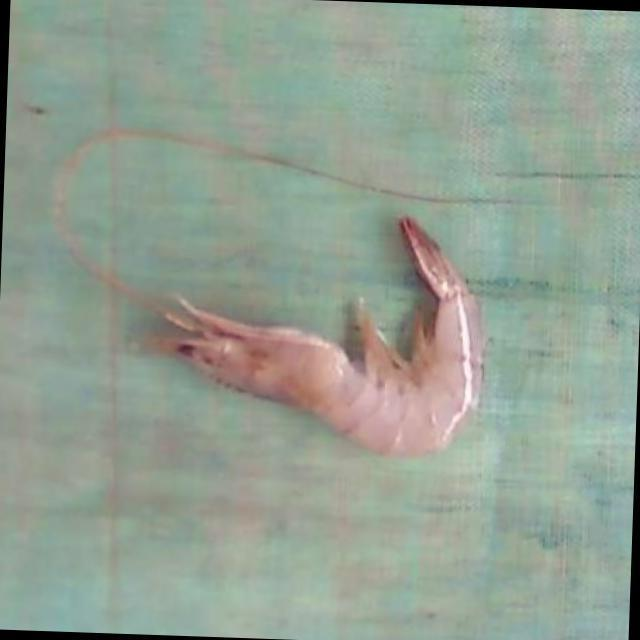shrimp: (156, 217, 481, 456)
